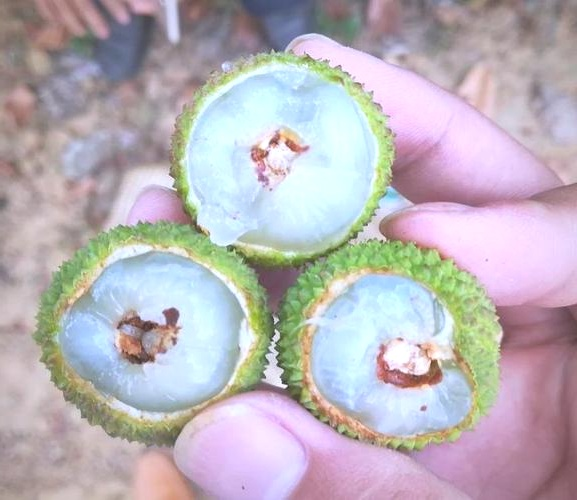Borer: (258, 121, 299, 177), (118, 317, 160, 357), (414, 290, 441, 352)
